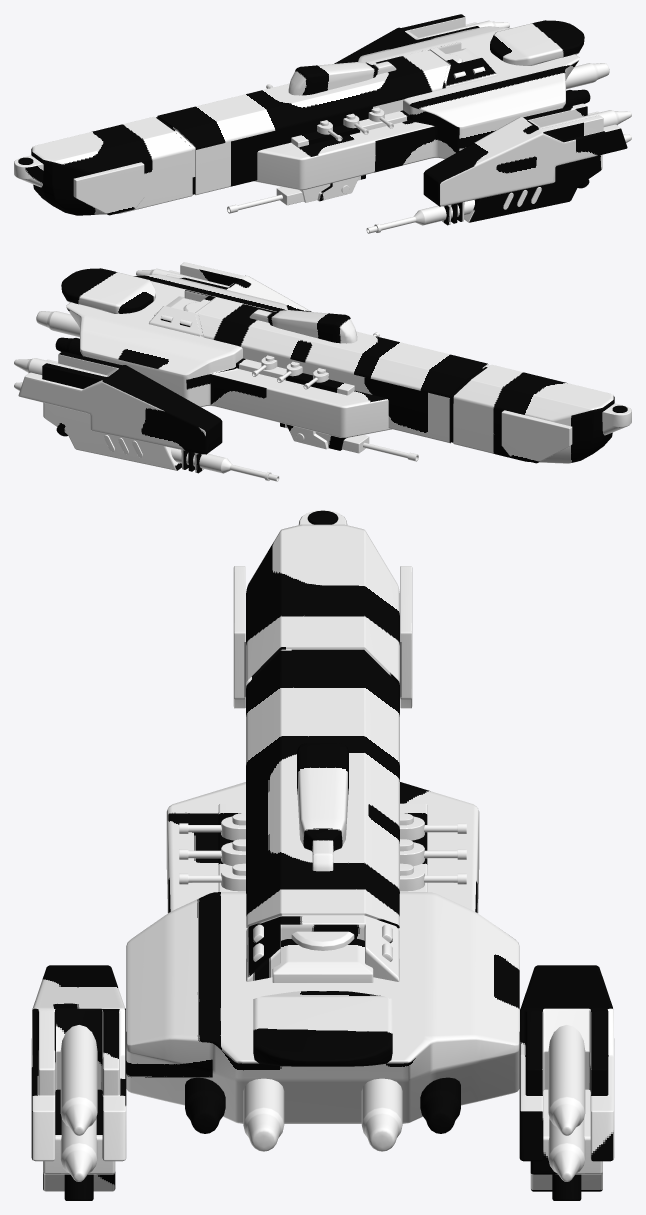
The model's file is ship.glb.
The picture shows the model from 3 angles, top to bottom: view 1: azimuth 30°, elevation 25°; view 2: azimuth 150°, elevation 25°; view 3: azimuth 270°, elevation 25°; orthographic projection. The views are drawn at different scales.
Parts seen in each view (by area): view 1: Destroyer_1; view 2: Destroyer_1; view 3: Destroyer_1.
Part boxes in pixels (box(x1,y1,x2,y2)): Destroyer_1: box(14, 14, 631, 233); Destroyer_1: box(14, 262, 631, 481); Destroyer_1: box(31, 510, 614, 1200).
Bounding box in the file's own units: 91 × 19.25 × 39.76.
Materials: 1 (1 with a texture image).
